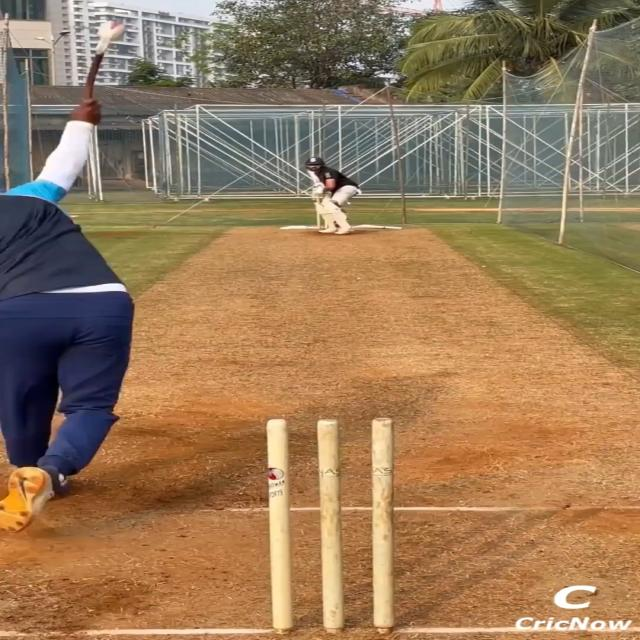stump: (265, 419, 400, 634)
